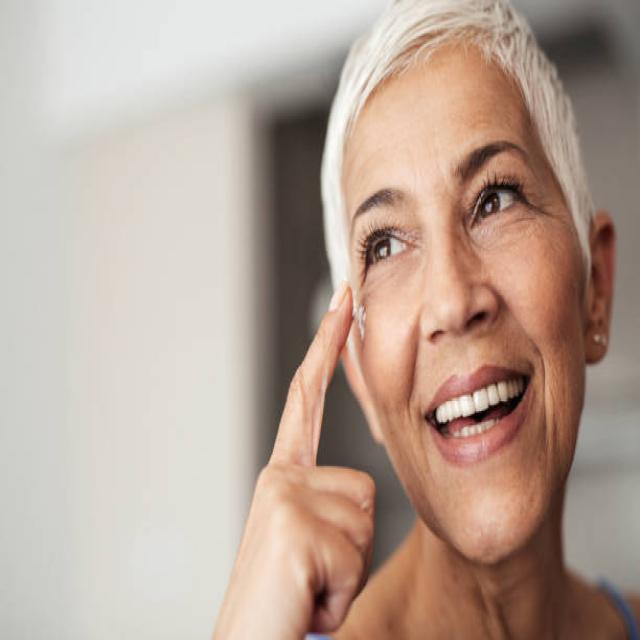Dry-Skin: (518, 295, 590, 480), (360, 66, 476, 152)
